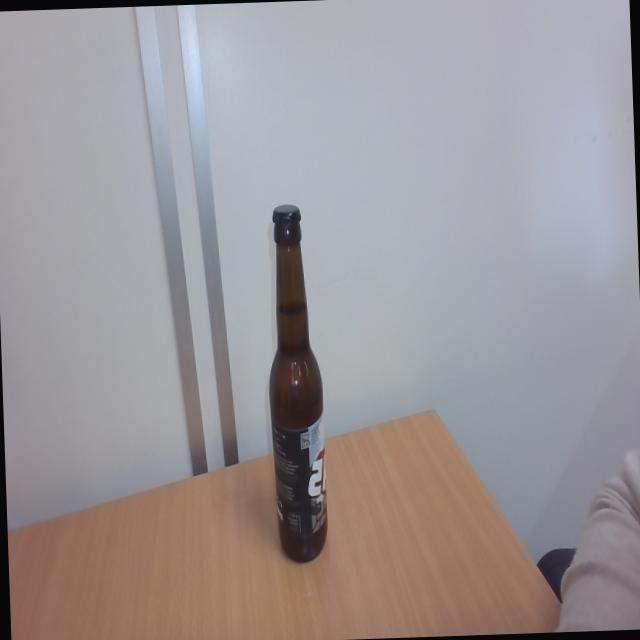Bottle: (262, 228, 327, 562)
Cap: (270, 200, 303, 230)
Label: (272, 418, 327, 535)
